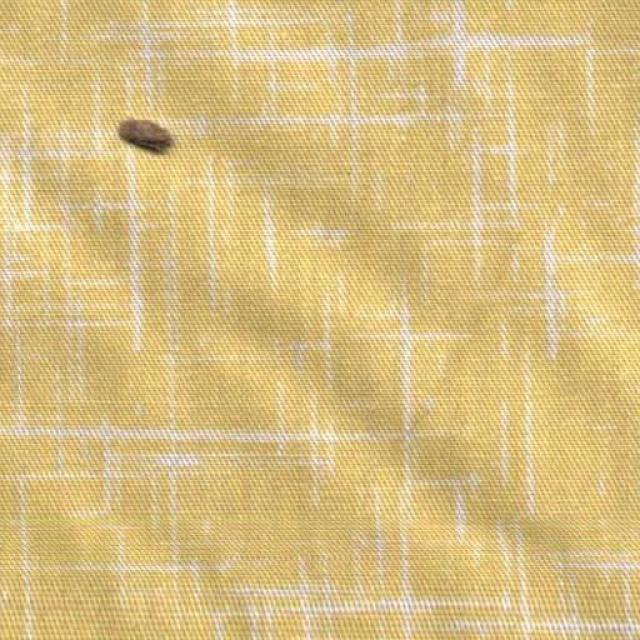stain: (115, 116, 183, 156)
